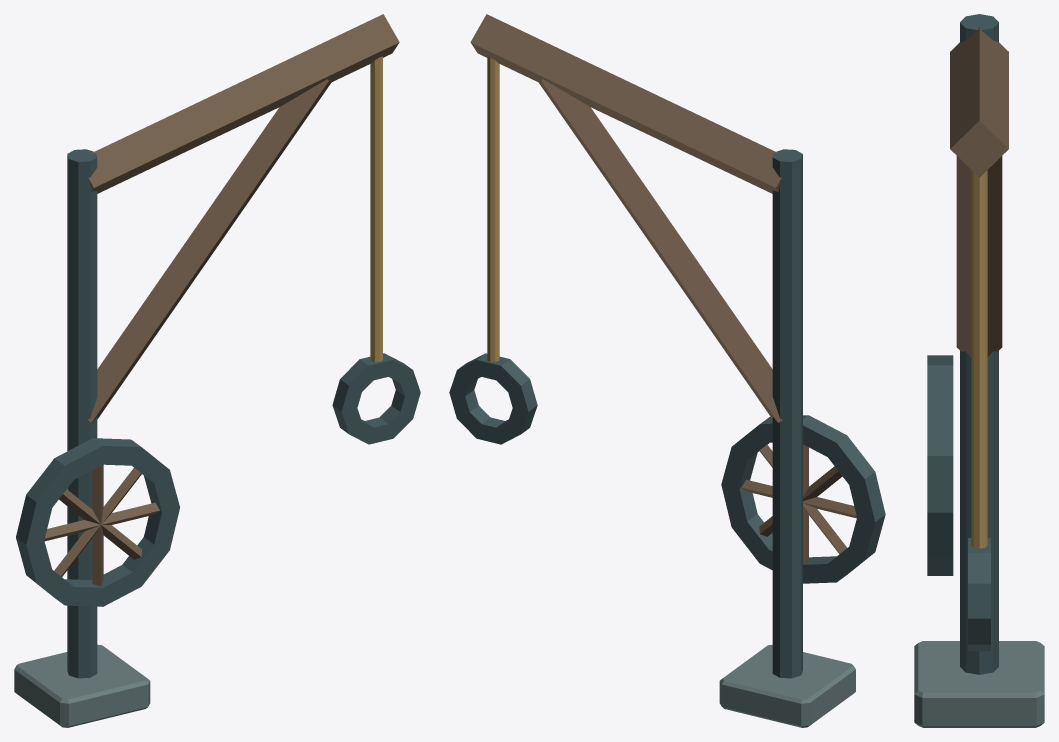
File: dock-crane.glb
The picture shows the model from 3 angles, left to right: view 1: azimuth 30°, elevation 25°; view 2: azimuth 150°, elevation 25°; view 3: azimuth 270°, elevation 25°; orthographic projection. The views are drawn at different scales.
Parts seen in each view (by area): view 1: dock-crane__body; view 2: dock-crane__body; view 3: dock-crane__body.
Boxes of the visible parts, <box> form: dock-crane__body: <box>14,14,420,727</box>; dock-crane__body: <box>449,14,885,727</box>; dock-crane__body: <box>914,14,1044,727</box>.
Size of the model in its own units: 1.82 by 2.59 by 0.4.
